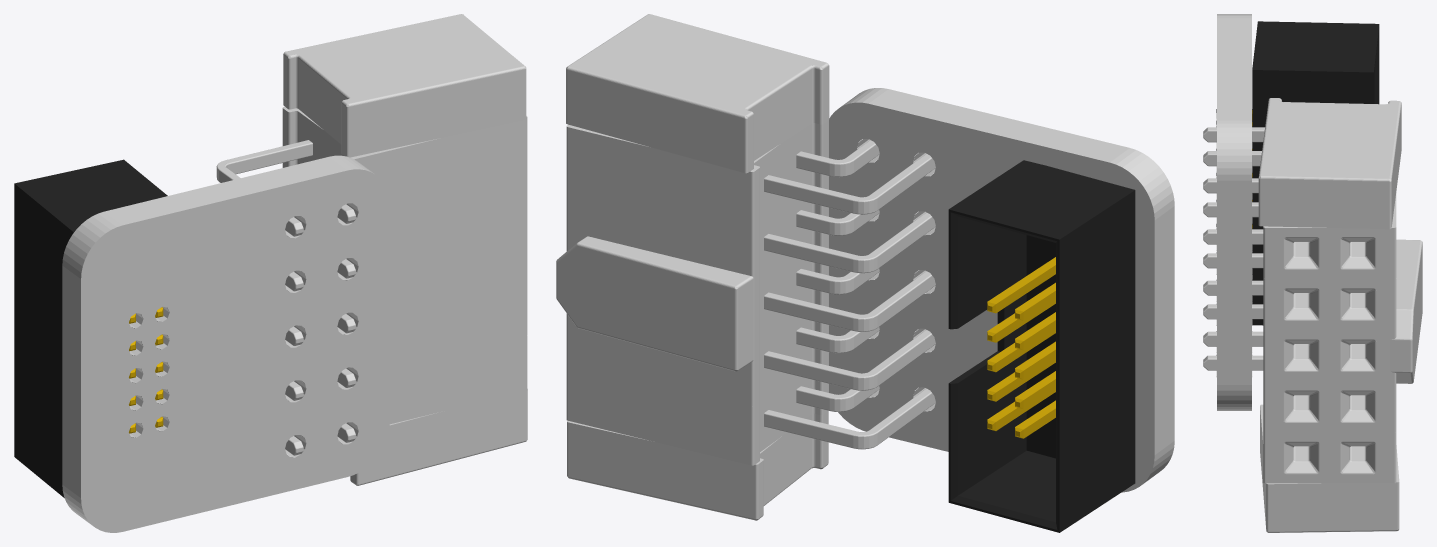
The model's file is yolo.glb.
The picture shows the model from 3 angles, left to right: view 1: azimuth 30°, elevation 25°; view 2: azimuth 150°, elevation 25°; view 3: azimuth 270°, elevation 25°; orthographic projection. The views are drawn at different scales.
Visible parts, largest first — view 1: Shape_IndexedFaceSet.011, Shape_IndexedFaceSet, SHAPE_387_IndexedFaceSet.001, Shape_IndexedFaceSet.015, SHAPE_379_IndexedFaceSet.001, SHAPE_13_IndexedFaceSet.002, SHAPE_381_IndexedFaceSet, SHAPE_13_IndexedFaceSet.003, SHAPE_13_IndexedFaceSet, SHAPE_13_IndexedFaceSet.004, SHAPE_13_IndexedFaceSet.001, Shape_IndexedFaceSet.014 (+6 smaller); view 2: Shape_IndexedFaceSet, Shape_IndexedFaceSet.011, SHAPE_458_IndexedFaceSet, SHAPE_387_IndexedFaceSet.001, SHAPE_17_IndexedFaceSet.004, SHAPE_17_IndexedFaceSet.002, SHAPE_379_IndexedFaceSet, SHAPE_381_IndexedFaceSet.001, Shape_IndexedFaceSet.012, SHAPE_17_IndexedFaceSet.001, SHAPE_17_IndexedFaceSet.003, Shape_IndexedFaceSet.013 (+23 smaller); view 3: Shape_IndexedFaceSet.011, Shape_IndexedFaceSet, SHAPE_387_IndexedFaceSet.001, SHAPE_383_IndexedFaceSet.001, SHAPE_383_IndexedFaceSet, SHAPE_11_IndexedFaceSet.003, SHAPE_11_IndexedFaceSet.004, SHAPE_11_IndexedFaceSet.002, SHAPE_11_IndexedFaceSet.001, SHAPE_11_IndexedFaceSet, SHAPE_452_IndexedFaceSet, SHAPE_458_IndexedFaceSet (+5 smaller).
Part boxes in pixels (x1,y1,x2,y2): Shape_IndexedFaceSet.011: (62, 155, 389, 532); Shape_IndexedFaceSet: (14, 159, 168, 497); SHAPE_387_IndexedFaceSet.001: (286, 14, 523, 103); Shape_IndexedFaceSet.015: (126, 195, 365, 465); SHAPE_379_IndexedFaceSet.001: (349, 69, 524, 157); SHAPE_13_IndexedFaceSet.002: (355, 120, 525, 205); SHAPE_381_IndexedFaceSet: (359, 391, 526, 484); SHAPE_13_IndexedFaceSet.003: (355, 281, 525, 370); SHAPE_13_IndexedFaceSet: (355, 227, 525, 315); SHAPE_13_IndexedFaceSet.004: (355, 336, 525, 424); SHAPE_13_IndexedFaceSet.001: (356, 172, 525, 260); Shape_IndexedFaceSet.014: (103, 217, 377, 401); Shape_IndexedFaceSet: (948, 160, 1135, 532); Shape_IndexedFaceSet.011: (829, 88, 1174, 492); SHAPE_458_IndexedFaceSet: (557, 246, 734, 369); SHAPE_387_IndexedFaceSet.001: (569, 14, 825, 115); SHAPE_17_IndexedFaceSet.004: (568, 362, 750, 465); SHAPE_17_IndexedFaceSet.002: (568, 127, 750, 230); SHAPE_379_IndexedFaceSet: (568, 422, 755, 518); SHAPE_381_IndexedFaceSet.001: (567, 70, 744, 172); Shape_IndexedFaceSet.012: (835, 115, 1142, 470); SHAPE_17_IndexedFaceSet.001: (568, 186, 750, 275); SHAPE_17_IndexedFaceSet.003: (568, 315, 750, 406); Shape_IndexedFaceSet.013: (849, 130, 943, 419); Shape_IndexedFaceSet.011: (1217, 14, 1251, 410); Shape_IndexedFaceSet: (1252, 21, 1379, 325); SHAPE_387_IndexedFaceSet.001: (1261, 98, 1399, 178); SHAPE_383_IndexedFaceSet.001: (1260, 179, 1389, 229); SHAPE_383_IndexedFaceSet: (1268, 482, 1397, 531); SHAPE_11_IndexedFaceSet.003: (1265, 381, 1394, 432); SHAPE_11_IndexedFaceSet.004: (1265, 432, 1394, 483); SHAPE_11_IndexedFaceSet.002: (1265, 228, 1394, 278); SHAPE_11_IndexedFaceSet.001: (1265, 279, 1394, 329); SHAPE_11_IndexedFaceSet: (1265, 330, 1394, 380); SHAPE_452_IndexedFaceSet: (1396, 239, 1420, 309); SHAPE_458_IndexedFaceSet: (1412, 243, 1422, 381).
Bounding box in the file's own units: 0.0231 × 0.0176 × 0.00988.
